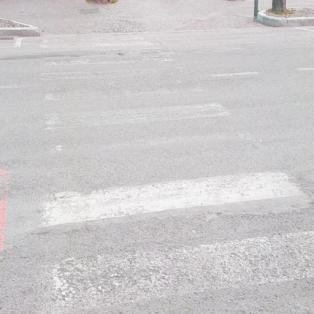Paso de Cebra: (35, 122, 308, 234)
